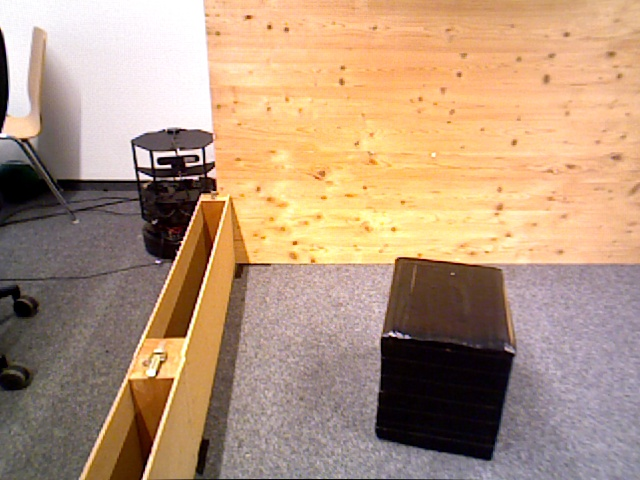push: (375, 257, 516, 465)
